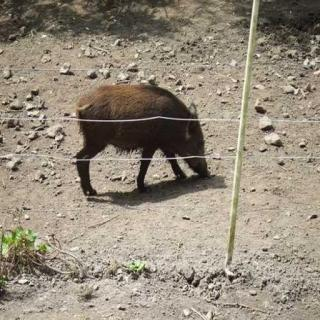Pig: (63, 72, 234, 206)
